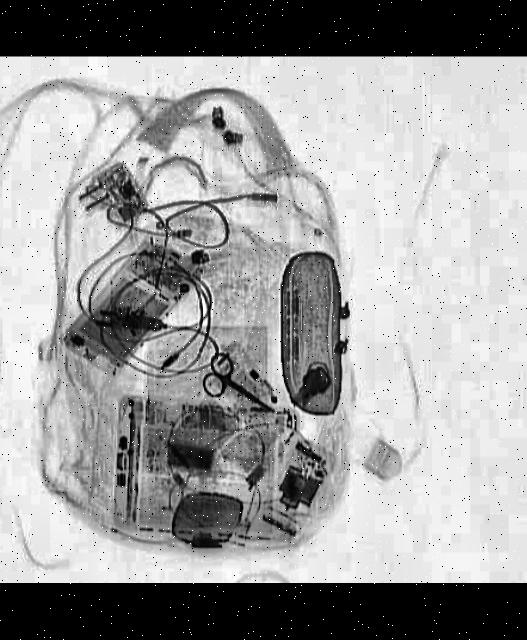Scissors: (192, 350, 287, 428)
